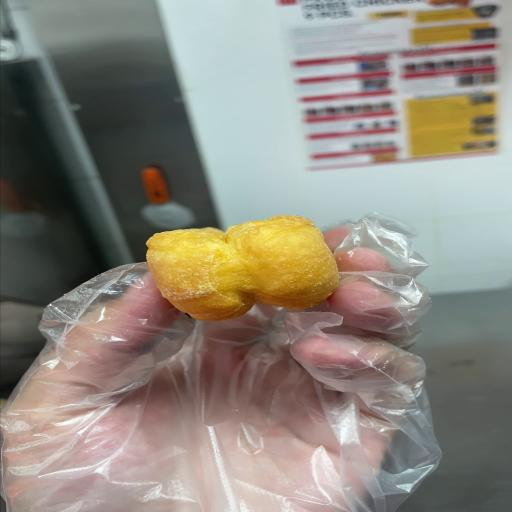brand_golden_good: (146, 215, 338, 321)
